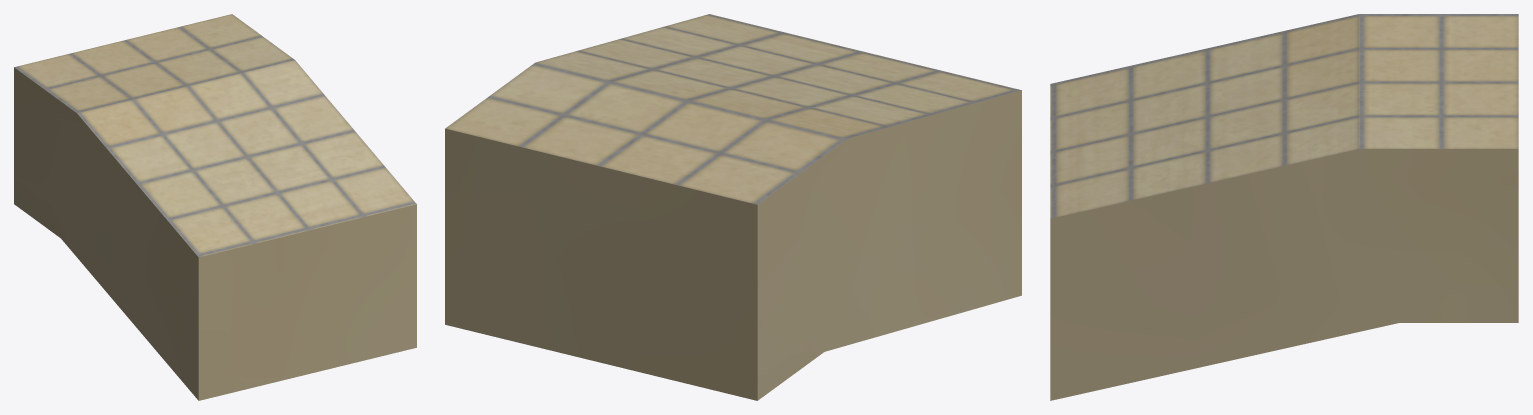
File: set_floor_03_slope_start_half.fbx
3 renders of one model, left to right at view 1: azimuth 30°, elevation 25°; view 2: azimuth 150°, elevation 25°; view 3: azimuth 270°, elevation 25°, orthographic. The views are drawn at different scales.
Parts seen in each view (by area): view 1: set_floor_03_slope_start_half; view 2: set_floor_03_slope_start_half; view 3: set_floor_03_slope_start_half.
Part boxes in pixels (x1=…): set_floor_03_slope_start_half: x1=14, y1=14, x2=416, y2=400; set_floor_03_slope_start_half: x1=445, y1=14, x2=1021, y2=400; set_floor_03_slope_start_half: x1=1050, y1=14, x2=1518, y2=400.
Size of the model in its own units: 100 by 86.98 by 147.
